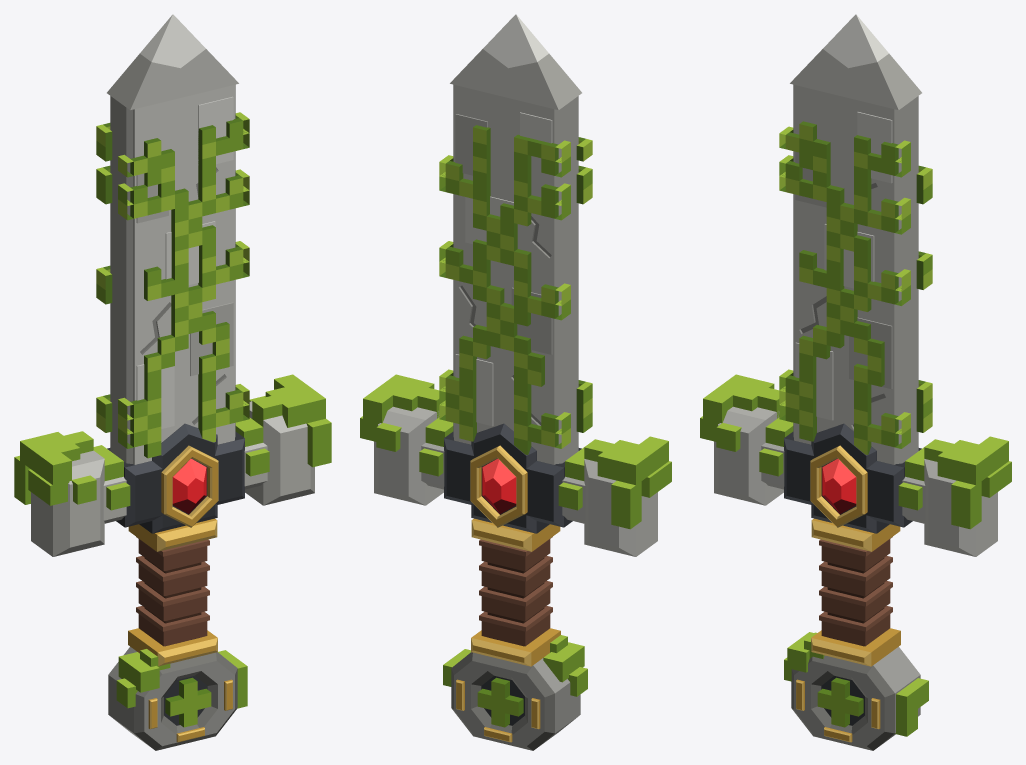
The model's file is mossstone_blade.glb.
The picture shows the model from 3 angles, left to right: view 1: azimuth 30°, elevation 25°; view 2: azimuth 150°, elevation 25°; view 3: azimuth 330°, elevation 25°; orthographic projection.
Visible parts, largest first — view 1: blade, blade_moss_front, guard_moss, grip, pommel, blade_tip, housing, guard_end_l, pommel_moss, guard_end_r, blade_moss_back, housing_gold (+5 smaller); view 2: blade, blade_moss_back, guard_moss, pommel, grip, blade_tip, housing, guard_end_r, guard_end_l, pommel_moss, housing_gold, band_pommel (+5 smaller); view 3: blade, blade_moss_front, guard_moss, pommel, grip, blade_tip, housing, guard_end_l, guard_end_r, pommel_moss, housing_gold, blade_moss_back (+5 smaller).
Boxes of the visible parts, x1=… form: blade: x1=110, y1=84, x2=235, y2=464; blade_moss_front: x1=118, y1=112, x2=249, y2=458; guard_moss: x1=14, y1=374, x2=331, y2=510; grip: x1=136, y1=537, x2=209, y2=646; pommel: x1=108, y1=646, x2=237, y2=750; blade_tip: x1=107, y1=14, x2=238, y2=110; housing: x1=107, y1=423, x2=244, y2=533; guard_end_l: x1=31, y1=450, x2=104, y2=556; pommel_moss: x1=116, y1=649, x2=247, y2=727; guard_end_r: x1=245, y1=401, x2=314, y2=505; blade_moss_back: x1=96, y1=123, x2=112, y2=432; housing_gold: x1=161, y1=445, x2=218, y2=527; blade: x1=453, y1=84, x2=578, y2=464; blade_moss_back: x1=439, y1=125, x2=570, y2=454; guard_moss: x1=360, y1=374, x2=671, y2=529; pommel: x1=451, y1=652, x2=580, y2=750; grip: x1=479, y1=537, x2=552, y2=646; blade_tip: x1=450, y1=14, x2=581, y2=110; housing: x1=444, y1=423, x2=581, y2=533; guard_end_r: x1=374, y1=406, x2=443, y2=505; guard_end_l: x1=584, y1=459, x2=657, y2=556; pommel_moss: x1=443, y1=635, x2=587, y2=727; housing_gold: x1=470, y1=445, x2=527, y2=527; band_pommel: x1=471, y1=628, x2=560, y2=666; blade: x1=793, y1=84, x2=918, y2=464; blade_moss_front: x1=779, y1=121, x2=910, y2=454; guard_moss: x1=700, y1=374, x2=1011, y2=529; pommel: x1=791, y1=646, x2=920, y2=750; grip: x1=819, y1=537, x2=892, y2=646; blade_tip: x1=790, y1=14, x2=921, y2=110; housing: x1=784, y1=423, x2=921, y2=533; guard_end_l: x1=714, y1=406, x2=783, y2=505; guard_end_r: x1=924, y1=459, x2=997, y2=556; pommel_moss: x1=784, y1=632, x2=928, y2=736; housing_gold: x1=810, y1=445, x2=867, y2=527; blade_moss_back: x1=916, y1=165, x2=932, y2=432.
Size of the model in its own units: 0.51 by 1.26 by 0.144.
